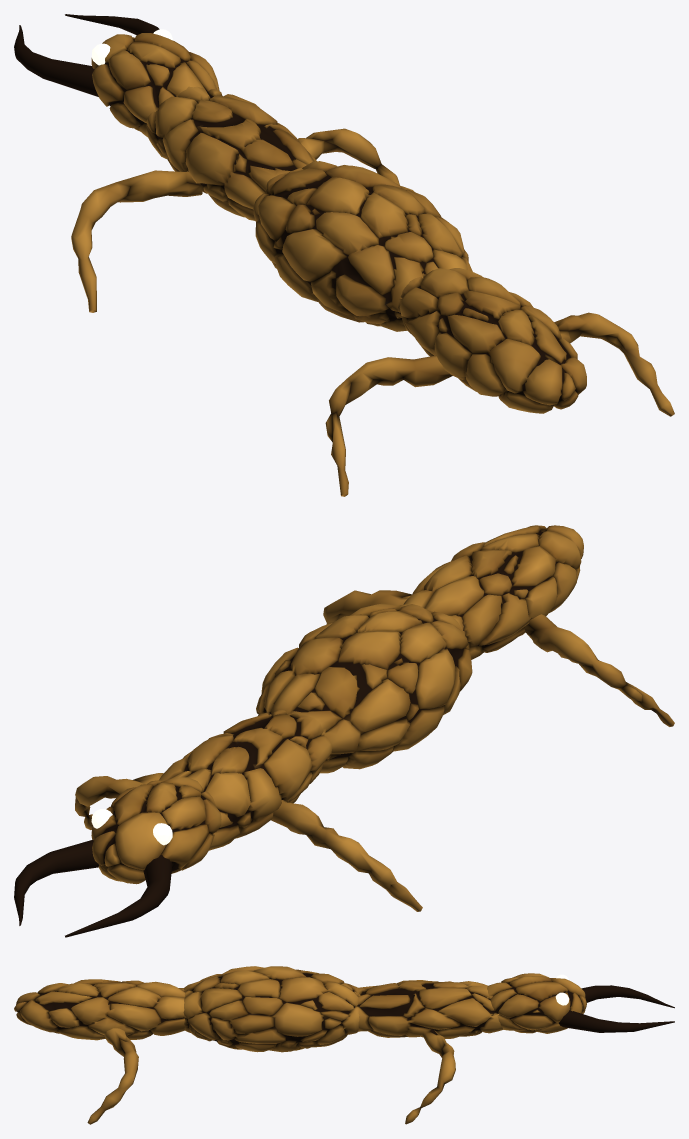
Rendered from kethrak_small.glb.
3 renders of one model, top to bottom at view 1: azimuth 30°, elevation 25°; view 2: azimuth 150°, elevation 25°; view 3: azimuth 270°, elevation 25°, orthographic. The views are drawn at different scales.
Visible parts, largest first — view 1: kethrak_small.001; view 2: kethrak_small.001; view 3: kethrak_small.001.
Boxes of the visible parts, bbox=[...] form: kethrak_small.001: bbox=[14, 14, 674, 496]; kethrak_small.001: bbox=[14, 525, 674, 937]; kethrak_small.001: bbox=[14, 966, 674, 1124].
Bounding box in the file's own units: 3.66 × 1.73 × 10.
